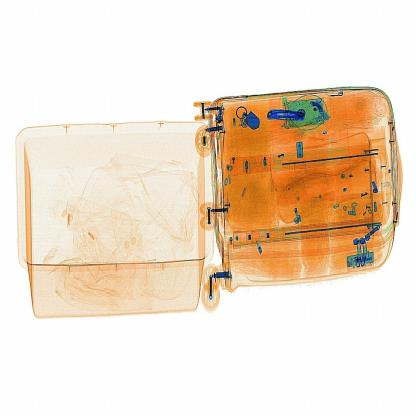knife: (257, 100, 314, 134)
